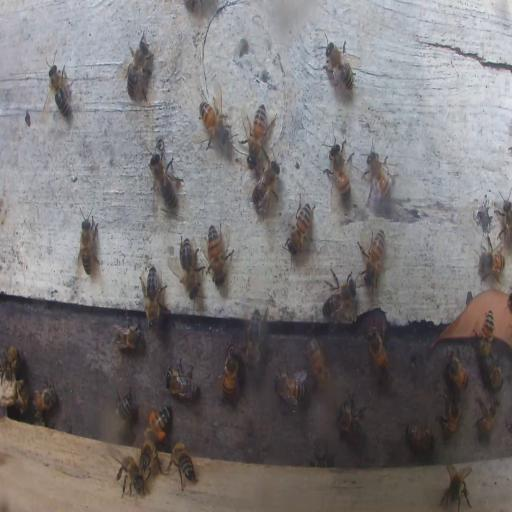nonpollenbee: (149, 142, 184, 207), (356, 225, 385, 292), (251, 156, 282, 217), (125, 34, 153, 101), (322, 269, 358, 320), (205, 224, 234, 287), (326, 133, 352, 203), (322, 39, 355, 94), (140, 263, 166, 329), (286, 194, 314, 255), (365, 148, 397, 201), (440, 460, 472, 512), (243, 105, 269, 167), (46, 62, 72, 118), (167, 441, 196, 490), (178, 234, 200, 296), (337, 395, 368, 439), (199, 96, 226, 146), (436, 387, 461, 439), (274, 368, 306, 408), (165, 363, 198, 401), (305, 335, 328, 389), (366, 323, 389, 377), (110, 318, 144, 352), (80, 214, 98, 278), (474, 396, 499, 441), (444, 352, 470, 392), (245, 308, 262, 368), (117, 455, 143, 494), (221, 347, 239, 401), (404, 422, 435, 453), (30, 382, 58, 416), (496, 191, 512, 248), (478, 247, 506, 278), (480, 307, 494, 359), (0, 345, 19, 382), (116, 388, 134, 426), (139, 438, 155, 476), (488, 358, 502, 392), (14, 379, 27, 413), (314, 448, 327, 467)
pollenbee: (146, 404, 171, 444)
